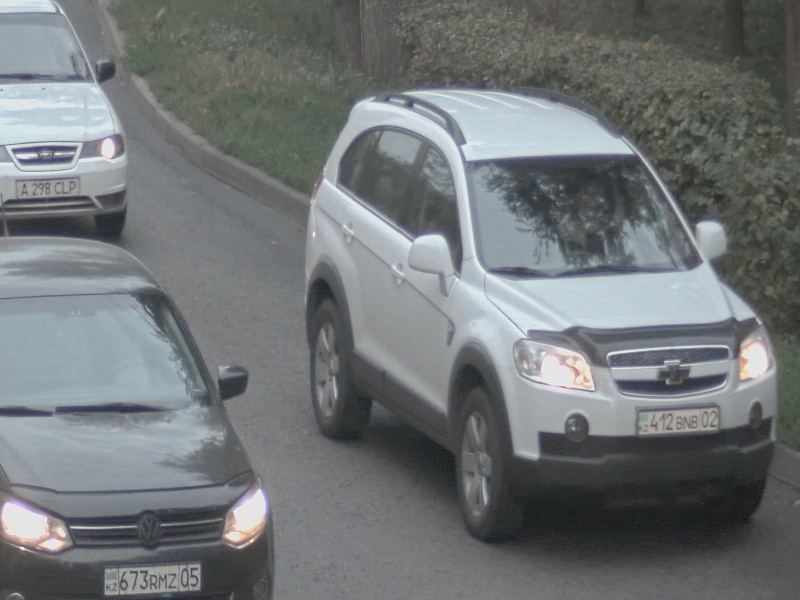plate: (103, 561, 202, 597), (635, 403, 722, 438), (14, 174, 81, 202)
